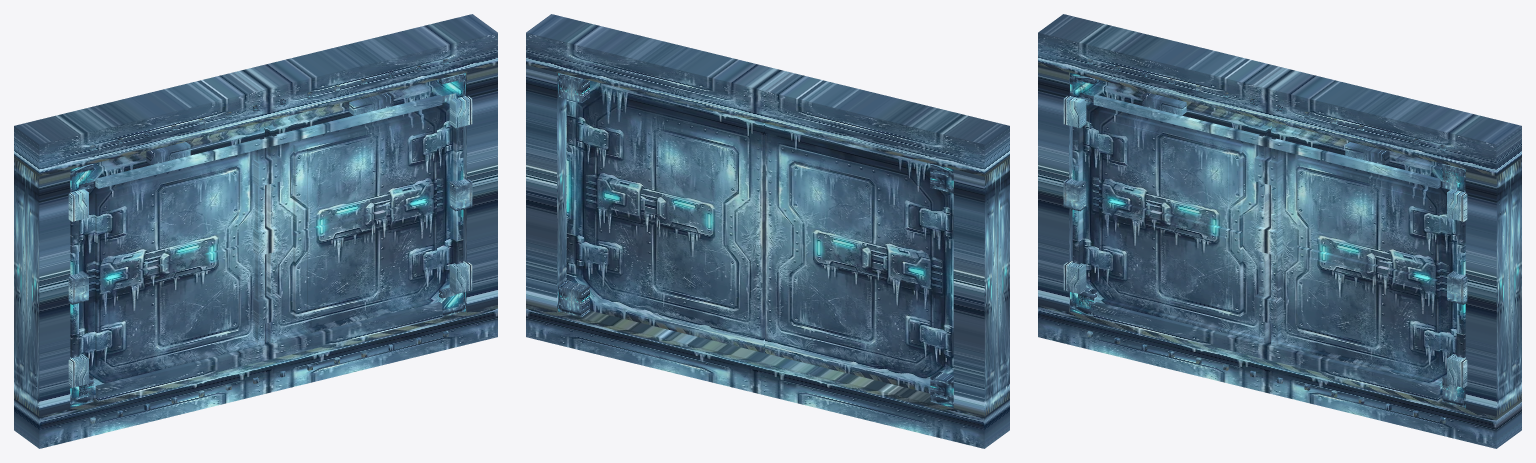
Rendered from hangar_kapi_ice.glb.
3 renders of one model, left to right at view 1: azimuth 30°, elevation 25°; view 2: azimuth 150°, elevation 25°; view 3: azimuth 330°, elevation 25°, orthographic.
Visible parts, largest first — view 1: FRAME, DOOR_R, DOOR_L; view 2: FRAME, DOOR_R, DOOR_L; view 3: FRAME, DOOR_L, DOOR_R.
Boxes of the visible parts, box(x1,y1,x2,y2) form: FRAME: box(14, 14, 497, 448); DOOR_R: box(264, 79, 463, 343); DOOR_L: box(70, 122, 270, 398); FRAME: box(526, 14, 1009, 448); DOOR_R: box(566, 80, 764, 352); DOOR_L: box(765, 123, 953, 393); FRAME: box(1038, 14, 1521, 448); DOOR_L: box(1072, 79, 1271, 343); DOOR_R: box(1265, 122, 1465, 398).
Bounding box in the file's own units: 10.4 × 6.6 × 1.14.
1 material, 1 textured.
